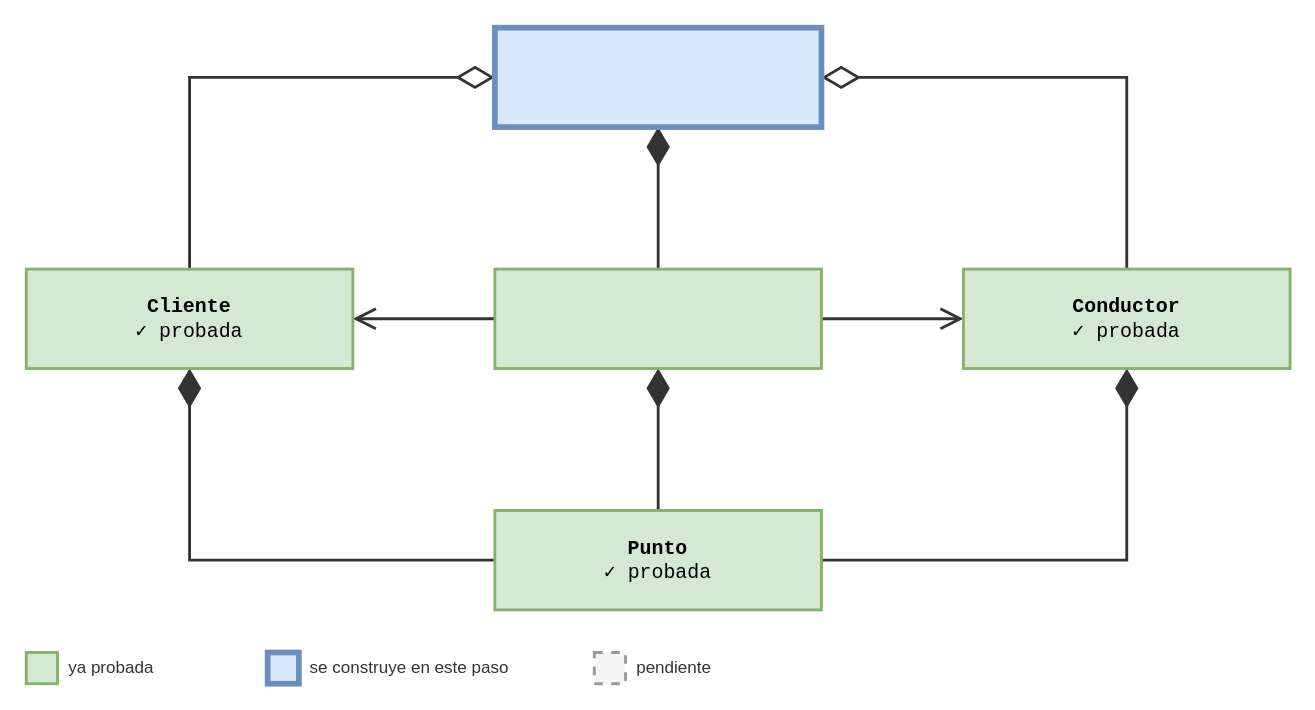
Some shapes in this 1315 by 710 pixel diagram are drawn without their labels. Here are the shapes that lost their labels. From the top down, the box of each, then its label:
(491, 24, 824, 129): Plataforma administra todo
(493, 267, 822, 369): Viaje ✓ probada
